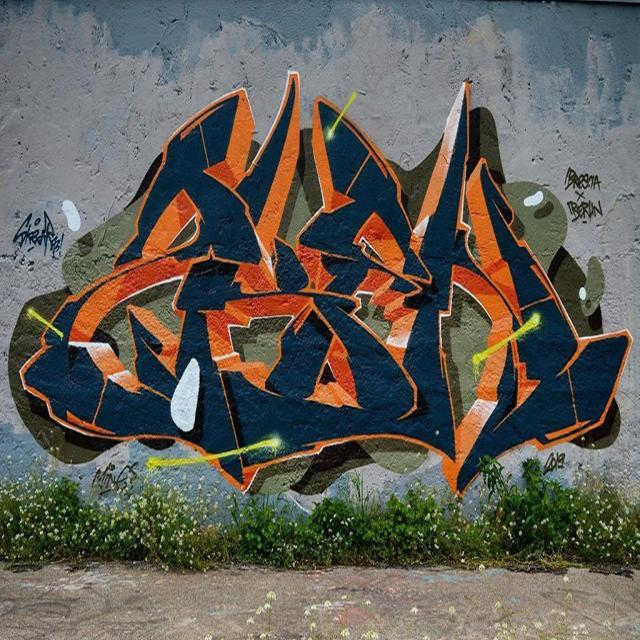-: (25, 72, 632, 494), (16, 209, 64, 260), (566, 166, 602, 226)
